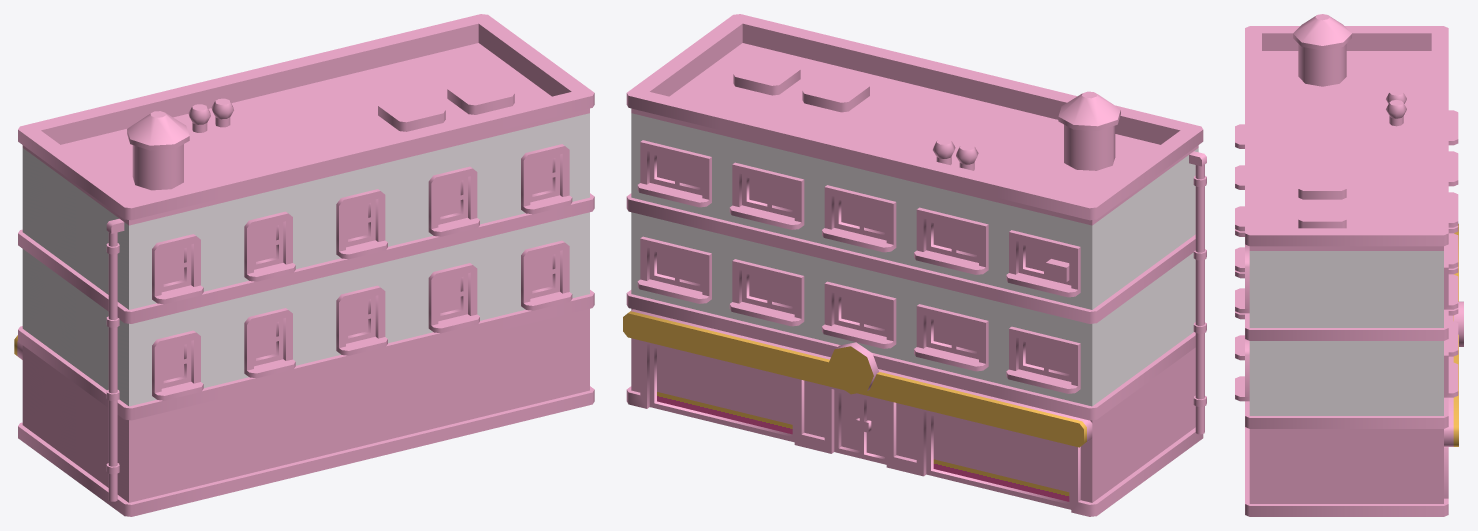
Rendered from building_k.obj.
3 renders of one model, left to right at view 1: azimuth 30°, elevation 25°; view 2: azimuth 150°, elevation 25°; view 3: azimuth 270°, elevation 25°, orthographic. The views are drawn at different scales.
Parts seen in each view (by area): view 1: building-k; view 2: building-k; view 3: building-k.
Boxes of the visible parts, x1,y1,x2,y2 form: building-k: (14,14,594,516); building-k: (623,14,1206,516); building-k: (1235,14,1463,516).
Bounding box in the file's own units: 41.67 × 29.4 × 18.84.
1 material, 1 textured.
